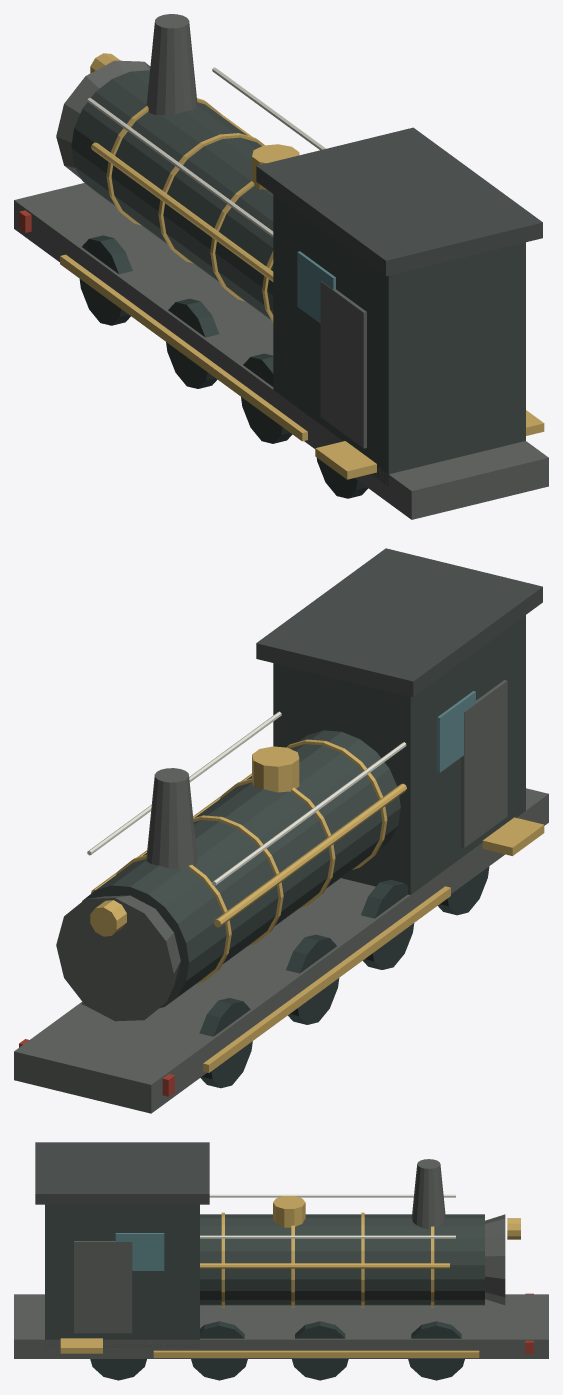
File: nord-2-6-0_lod0.glb
The picture shows the model from 3 angles, top to bottom: view 1: azimuth 30°, elevation 25°; view 2: azimuth 150°, elevation 25°; view 3: azimuth 270°, elevation 25°; orthographic projection. The views are drawn at different scales.
Parts seen in each view (by area): view 1: RF_Loco_Cab, RF_Loco_Chassis, RF_Loco_Roof, RF_Loco_Boiler, RF_Loco_CabDoor.001, RF_Loco_Stack, RF_Loco_Rod.001, RF_Loco_Smokebox, RF_Wheel.007, RF_Wheel.005, RF_Loco_MainPipe.001, RF_Wheel.003 (+9 smaller); view 2: RF_Loco_Chassis, RF_Loco_Boiler, RF_Loco_Cab, RF_Loco_Roof, RF_Loco_Smokebox, RF_Loco_CabDoor.001, RF_Loco_Stack, RF_Loco_Rod.001, RF_Wheel.007, RF_Loco_MainPipe.001, RF_Wheel.005, RF_Wheel.003 (+11 smaller); view 3: RF_Loco_Boiler, RF_Loco_Chassis, RF_Loco_Cab, RF_Loco_Roof, RF_Loco_CabDoor, RF_Loco_Rod, RF_Loco_Stack, RF_Loco_Smokebox, RF_Wheel.006, RF_Wheel, RF_Wheel.004, RF_Loco_MainPipe (+10 smaller).
Part boxes in pixels (bbox=[...]): RF_Loco_Cab: bbox=[273, 194, 525, 486]; RF_Loco_Chassis: bbox=[14, 183, 548, 519]; RF_Loco_Roof: bbox=[256, 127, 542, 276]; RF_Loco_Boiler: bbox=[71, 70, 273, 319]; RF_Loco_CabDoor.001: bbox=[320, 281, 366, 448]; RF_Loco_Stack: bbox=[146, 14, 197, 115]; RF_Loco_Rod.001: bbox=[60, 254, 307, 441]; RF_Loco_Smokebox: bbox=[56, 60, 150, 178]; RF_Wheel.007: bbox=[79, 235, 132, 325]; RF_Wheel.005: bbox=[166, 298, 219, 388]; RF_Loco_MainPipe.001: bbox=[91, 142, 273, 281]; RF_Wheel.003: bbox=[241, 353, 292, 443]; RF_Loco_Chassis: bbox=[14, 788, 548, 1113]; RF_Loco_Boiler: bbox=[82, 730, 400, 1008]; RF_Loco_Cab: bbox=[273, 615, 525, 894]; RF_Loco_Roof: bbox=[256, 548, 542, 697]; RF_Loco_Smokebox: bbox=[56, 895, 180, 1021]; RF_Loco_CabDoor.001: bbox=[461, 680, 507, 847]; RF_Loco_Stack: bbox=[146, 768, 197, 869]; RF_Loco_Rod.001: bbox=[203, 886, 450, 1072]; RF_Wheel.007: bbox=[199, 998, 252, 1088]; RF_Loco_MainPipe.001: bbox=[214, 783, 406, 927]; RF_Wheel.005: bbox=[286, 934, 339, 1024]; RF_Wheel.003: bbox=[361, 879, 414, 969]; RF_Loco_Boiler: bbox=[200, 1214, 484, 1305]; RF_Loco_Chassis: bbox=[14, 1294, 548, 1358]; RF_Loco_Cab: bbox=[45, 1204, 199, 1347]; RF_Loco_Roof: bbox=[35, 1142, 209, 1204]; RF_Loco_CabDoor: bbox=[74, 1241, 132, 1333]; RF_Loco_Rod: bbox=[153, 1350, 479, 1357]; RF_Loco_Stack: bbox=[411, 1159, 445, 1229]; RF_Loco_Smokebox: bbox=[485, 1214, 505, 1305]; RF_Wheel.006: bbox=[292, 1321, 348, 1380]; RF_Wheel: bbox=[408, 1321, 464, 1380]; RF_Wheel.004: bbox=[191, 1321, 247, 1380]; RF_Loco_MainPipe: bbox=[200, 1263, 449, 1268].
Bounding box in the file's own units: 3.95 × 5.55 × 13.8.
